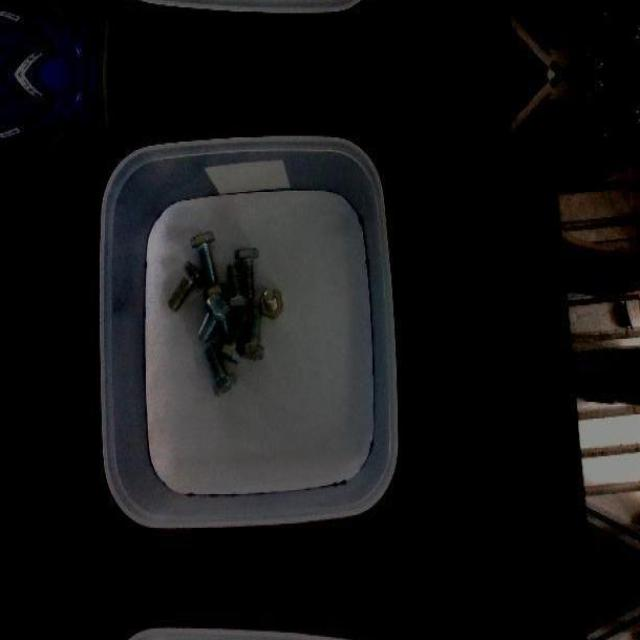screw: (167, 260, 204, 312), (205, 341, 237, 396), (199, 292, 231, 342), (240, 306, 266, 361), (191, 231, 218, 283), (235, 245, 259, 298), (260, 286, 282, 316)
